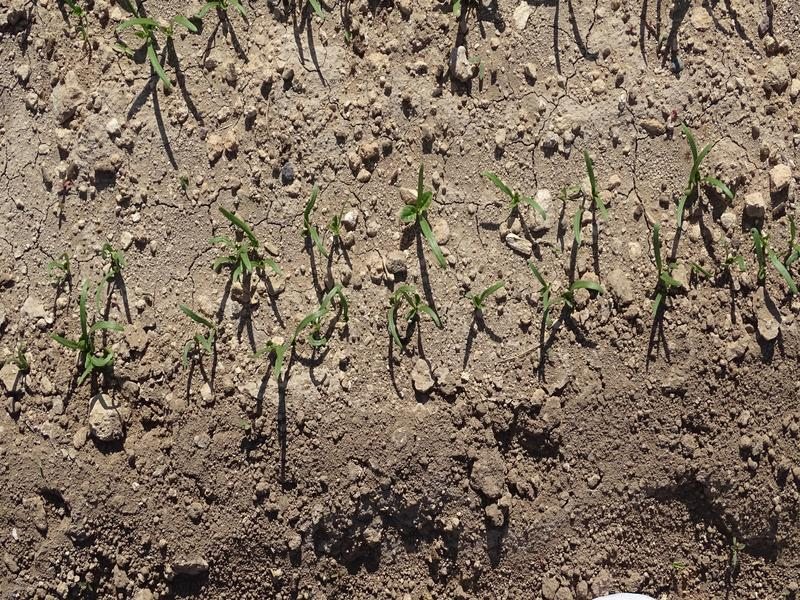Espinaca: (205, 209, 284, 282), (65, 289, 126, 380), (531, 249, 601, 314), (406, 168, 448, 268), (676, 130, 728, 206), (746, 220, 800, 293), (649, 227, 685, 331), (170, 303, 226, 363), (488, 168, 550, 222), (388, 282, 442, 342), (573, 149, 607, 239), (295, 285, 344, 343), (455, 279, 507, 320), (304, 195, 342, 250), (98, 244, 127, 284)
